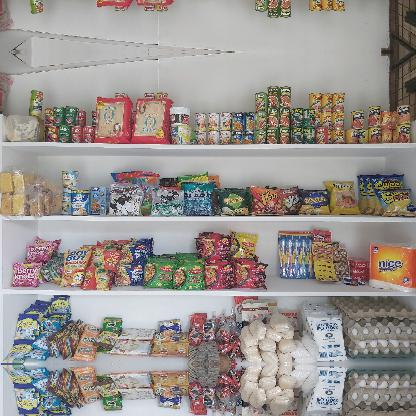Lady-s-Choice: (5, 115, 43, 142)
